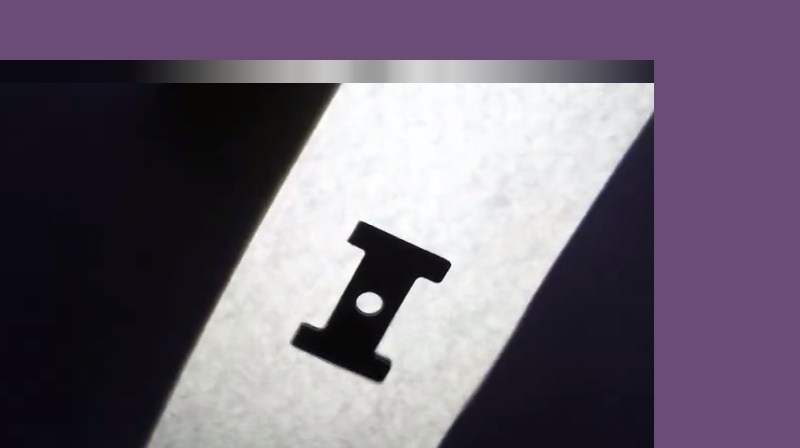O002: (282, 219, 453, 385)
